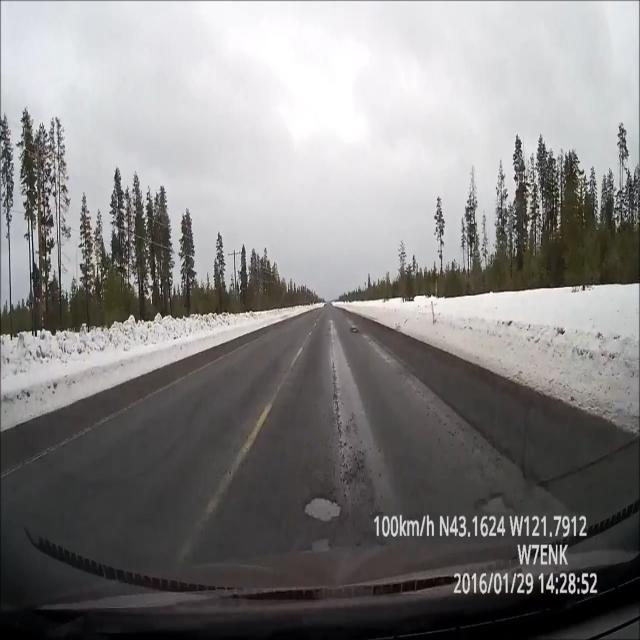Pothole: (302, 479, 339, 535)
